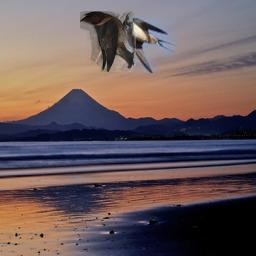Swallow: (80, 11, 136, 72), (123, 17, 178, 73)
